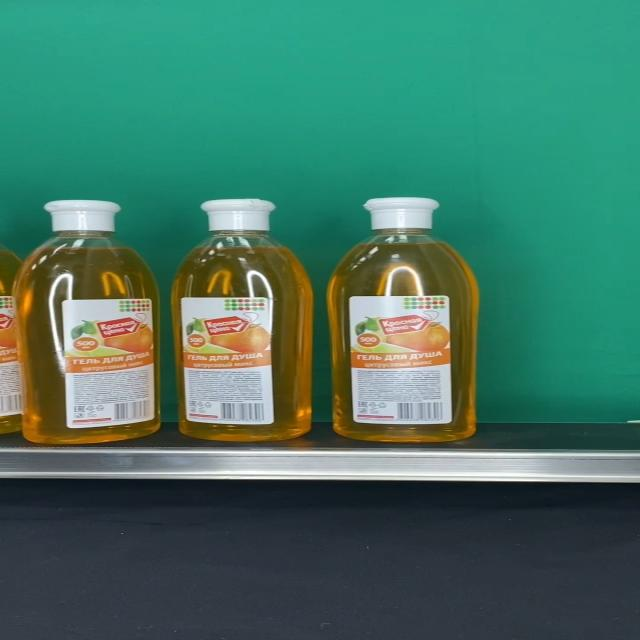Bottle: (326, 197, 480, 442), (13, 200, 161, 444), (170, 198, 313, 443)
Cap: (200, 198, 277, 231), (363, 198, 440, 230), (44, 200, 120, 232)
